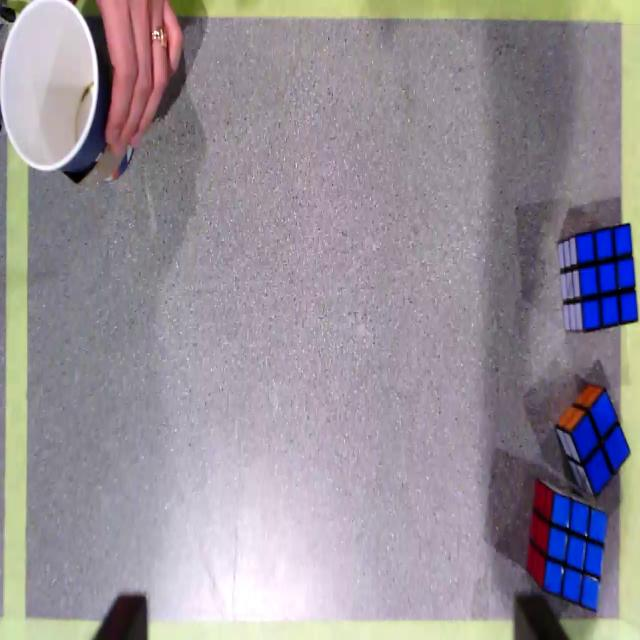cube2-blue: (570, 386, 631, 501)
cube3-blue: (544, 493, 607, 611), (576, 223, 638, 333)
